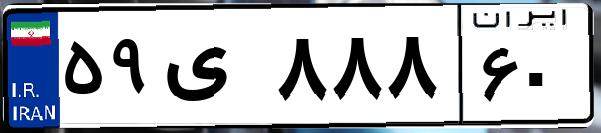0: (525, 38, 570, 115)
5: (57, 26, 110, 100)
6: (475, 38, 525, 113)
8: (270, 28, 330, 110), (385, 28, 445, 110), (330, 28, 385, 110)
9: (110, 28, 158, 98)
ی: (158, 20, 270, 120)
